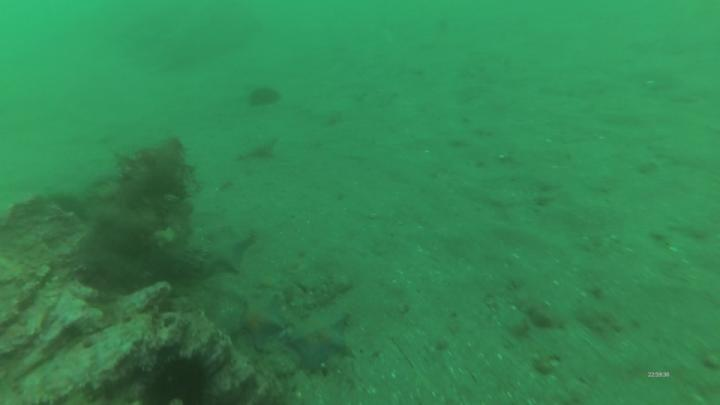echinus: (143, 357, 207, 405), (250, 91, 279, 105)
starfish: (290, 310, 352, 368), (240, 295, 287, 350), (201, 233, 250, 271)
